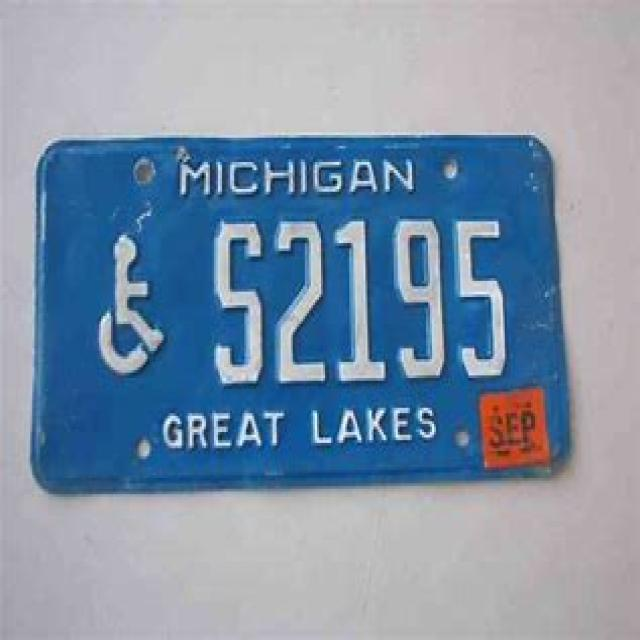symbol_of_access: (96, 235, 166, 378)
